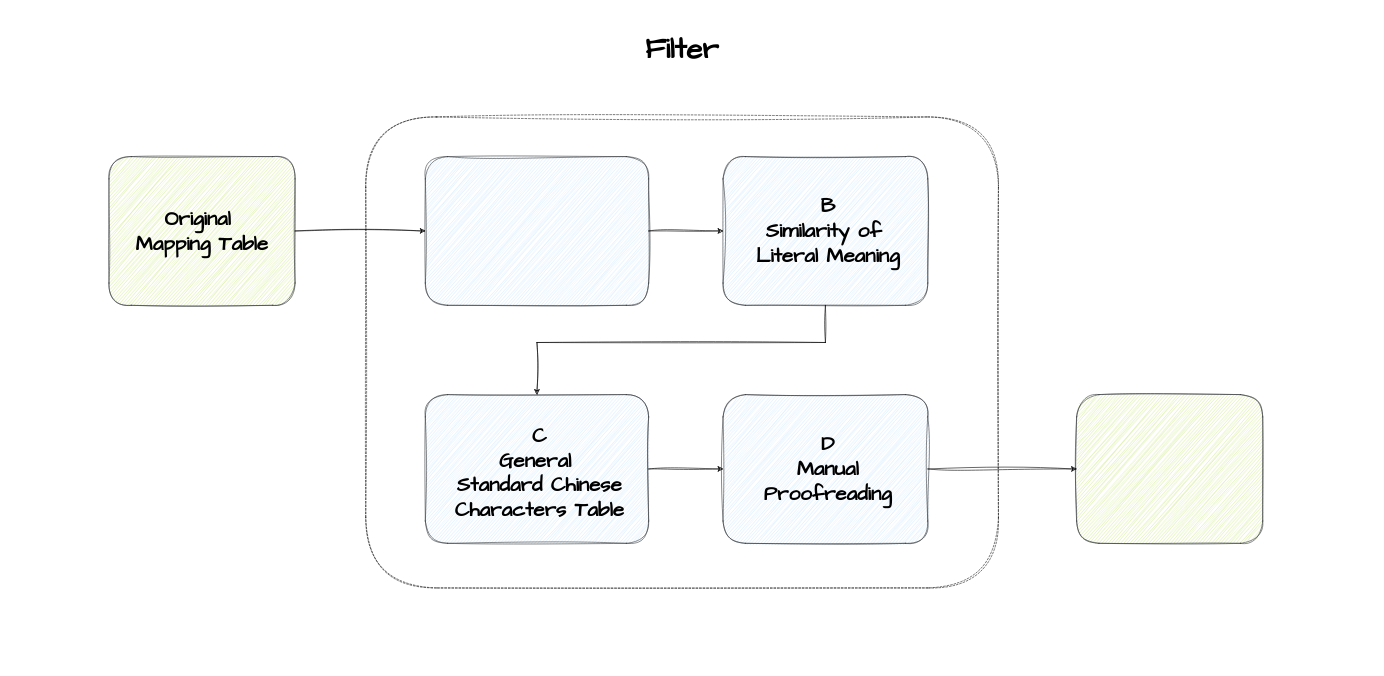
The diagram is 1384 pixels wide and 676 high, and some of its shapes have lost their labels. The shapes that lost their labels are listed below. From the top down, each one's centre as x and y in pixels, then its label:
[537,230]: A Similarity of Character Glyph
[1169,468]: Final Mapping Table
